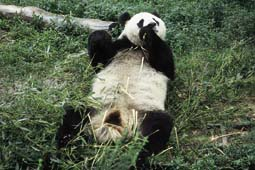panda: (52, 8, 179, 170)
